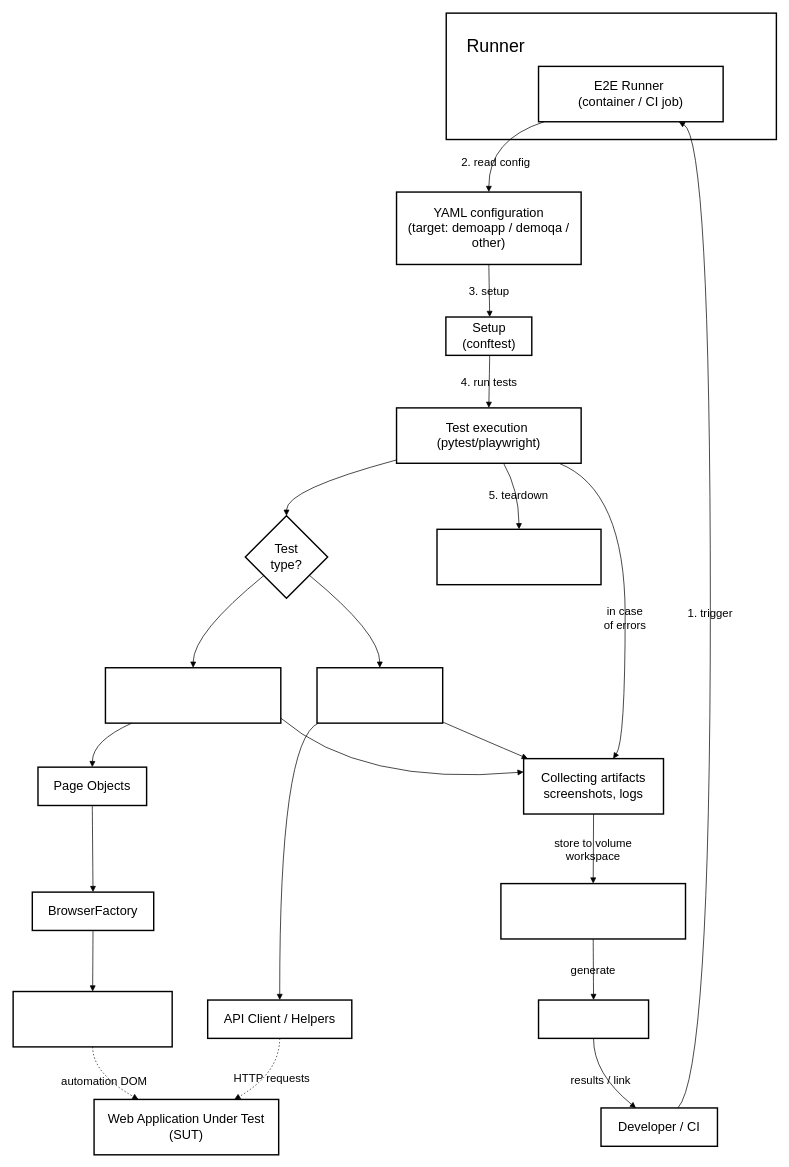
Image size: 789x1167. Some labels were removed from this diagram. Here are the shapes that lost their labels. From the top down, the box of each, then its label:
(436, 528, 601, 585): Teardown (stop services, cleanup)
(104, 667, 281, 723): UI tests Playwright + Page Objects
(316, 667, 443, 723): API tests requests / httpx
(500, 883, 686, 939): Artifact storage (reports/allure-results)
(12, 990, 173, 1047): Browser (Chromium / headless)
(537, 999, 649, 1039): Allure Report
